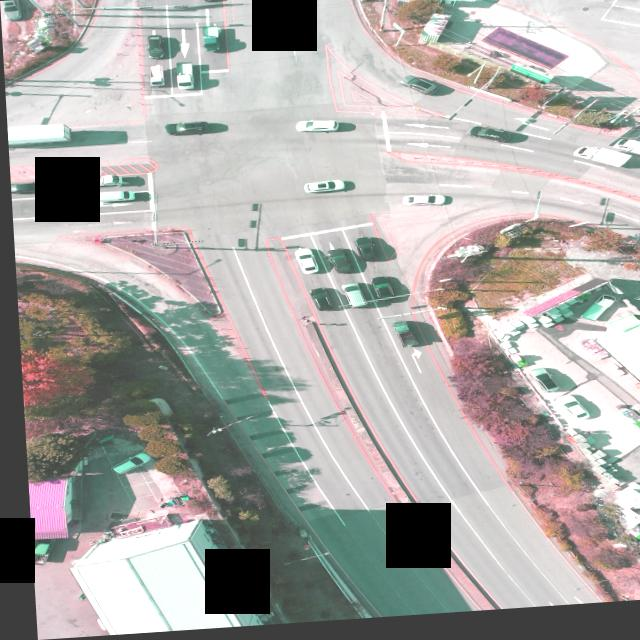car: (551, 400, 588, 430), (103, 455, 146, 475), (401, 78, 440, 100), (466, 131, 510, 150), (366, 279, 393, 309), (337, 286, 364, 315), (400, 196, 449, 211), (328, 251, 355, 278), (387, 325, 414, 352), (89, 189, 135, 204), (291, 251, 317, 277), (350, 240, 375, 267), (523, 374, 552, 397), (306, 289, 331, 315), (295, 121, 338, 135), (8, 180, 53, 192), (146, 36, 166, 61), (302, 185, 343, 197), (2, 0, 22, 21), (172, 123, 207, 135), (199, 0, 221, 4)
medium_truck: (6, 123, 72, 148)
small_truck: (569, 151, 630, 178), (572, 301, 616, 329), (64, 175, 120, 190), (25, 540, 50, 565), (616, 142, 640, 168), (202, 26, 223, 53), (177, 61, 197, 88), (148, 66, 164, 87)
